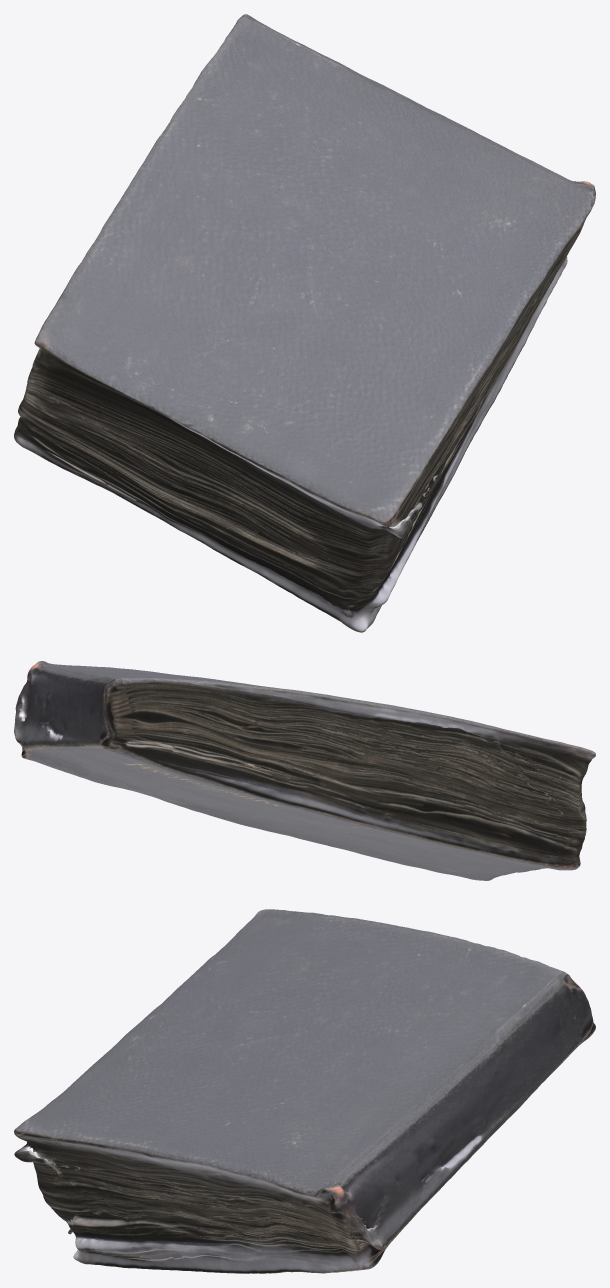
Rendered from wallet_b891198a35a6.glb.
3 views of the same model, one above another, from view 1: azimuth 30°, elevation 25°; view 2: azimuth 150°, elevation 25°; view 3: azimuth 270°, elevation 25° (orthographic). The views are drawn at different scales.
Parts seen in each view (by area): view 1: Object_2, Object_3; view 2: Object_2, Object_3; view 3: Object_2, Object_3.
Boxes of the visible parts, left/top/right/bottom form: Object_2: left=17, top=14, right=595, bottom=597; Object_3: left=14, top=14, right=592, bottom=632; Object_2: left=21, top=661, right=579, bottom=877; Object_3: left=14, top=661, right=595, bottom=880; Object_2: left=14, top=918, right=595, bottom=1273; Object_3: left=14, top=909, right=595, bottom=1271.
Bounding box in the file's own units: 2.55 × 1.56 × 2.32.
1 material, 1 textured.
